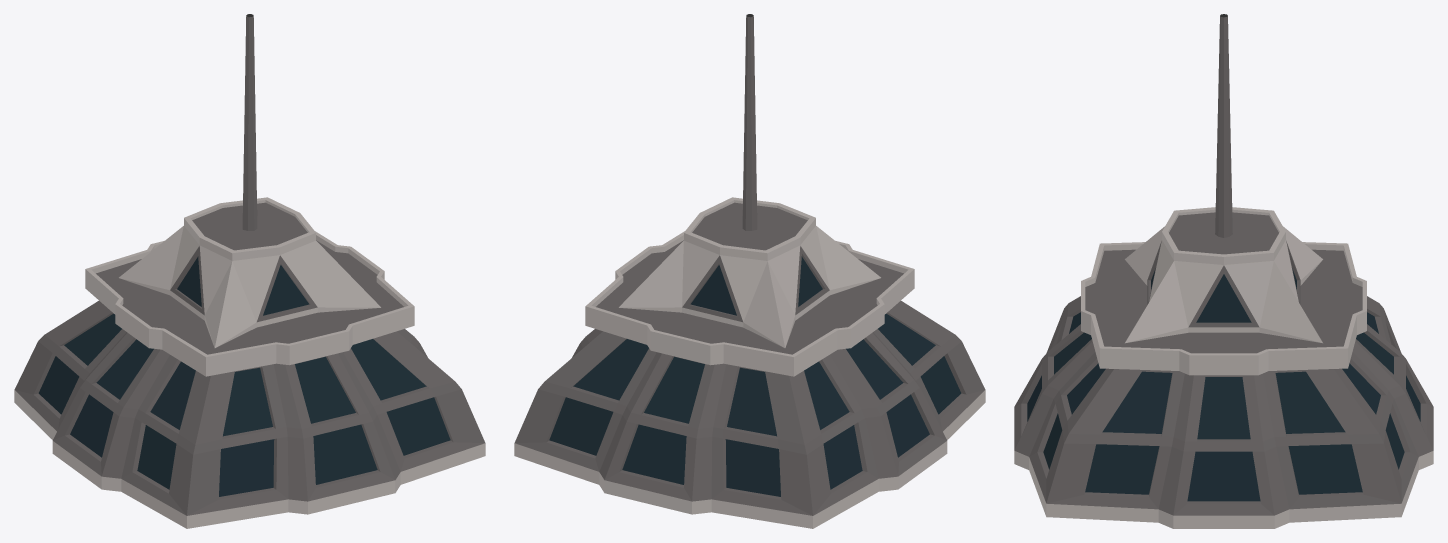
Rendered from skyscraper2-part-top.glb.
3 renders of one model, left to right at view 1: azimuth 30°, elevation 25°; view 2: azimuth 150°, elevation 25°; view 3: azimuth 270°, elevation 25°, orthographic. The views are drawn at different scales.
Visible parts, largest first — view 1: skyscraper2-part-top; view 2: skyscraper2-part-top; view 3: skyscraper2-part-top.
Part boxes in pixels (bbox=[...]): skyscraper2-part-top: bbox=[14, 14, 485, 528]; skyscraper2-part-top: bbox=[514, 14, 985, 528]; skyscraper2-part-top: bbox=[1014, 14, 1433, 528].
Bounding box in the file's own units: 13.92 × 15.92 × 14.19.
1 material, 1 textured.
